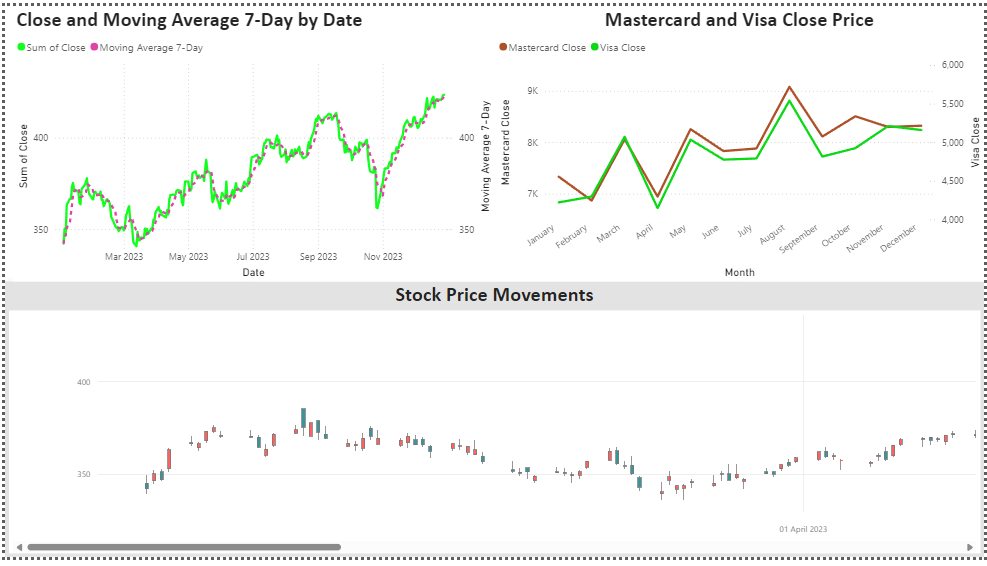

What the dashboard file says about the page in this screenshot:
{"tool":"powerbi","page":{"name":"Comparing","canvas":[1280,720],"ordinal":2},"visuals":[{"type":"PBI_CV_886A053E_9DFD_4EA0_A47D_CCAEB89AF969","title":"Stock Price Movements","fields":{"Category":["Stock_data.Date"],"open":["Sum(Stock_data.Close)"],"close":["Sum(Stock_data.Open)"],"high":["Sum(Stock_data.High)"],"low":["Sum(Stock_data.Low)"]},"box":[0,360,1280,360],"z":0},{"type":"lineChart","title":"Close and Moving Average 7-Day by Date","fields":{"Category":["Stock_data.Date.Variation.Date Hierarchy.Month"],"Y":["Sum(Stock_data.Close)"],"Y2":["Stock_data.Moving Average 7-Day"]},"box":[10,0,630,360],"z":1},{"type":"lineChart","title":"Mastercard and Visa Close Price","fields":{"Category":["Stock_data.Date.Variation.Date Hierarchy.Month"],"Y":["Sum(Stock_data.Close)"],"Y2":["Sum(visa_stock_data.Close)"]},"box":[640,0,640,360],"z":2}]}

Visuals, with their boxes in screenshot pixels (x1, y1, x2, y2), scaled from the page's 1280x720 canvas onto the 987x566 screenshot:
"Stock Price Movements" PBI_CV_886A053E_9DFD_4EA0_A47D_CCAEB89AF969: select_region(0, 283, 986, 565)
"Close and Moving Average 7-Day by Date" lineChart: select_region(8, 0, 494, 283)
"Mastercard and Visa Close Price" lineChart: select_region(494, 0, 986, 283)
